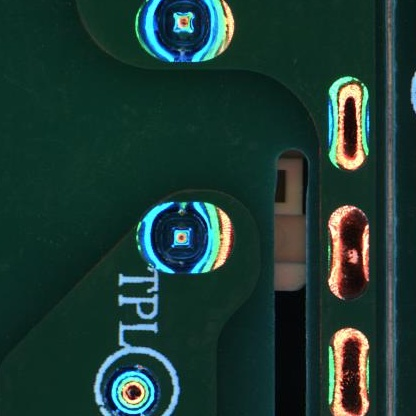spot: (133, 200, 235, 272), (131, 1, 236, 64), (102, 364, 163, 416)
